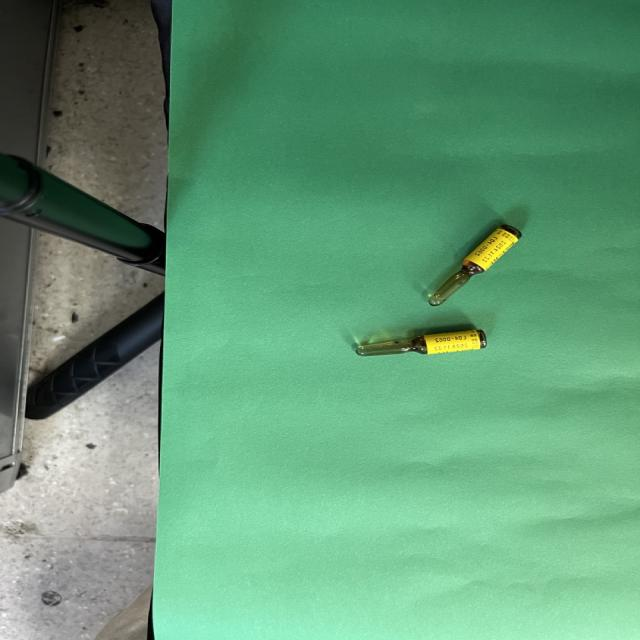Ampoules: (428, 224, 522, 306), (355, 328, 487, 356)
